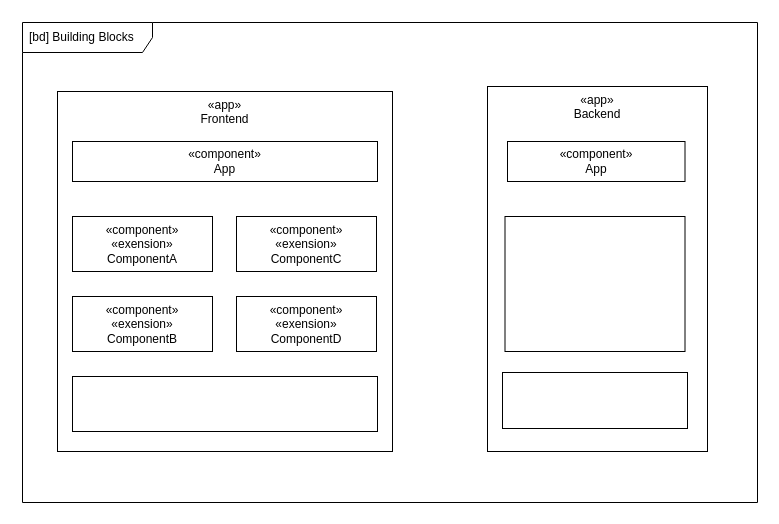
Some shapes in this 779 by 524 pixel diagram are drawn without their labels. The centre of each missing label's shape, as x and y in pixels:
"«component» API" goes at point (594, 284).
"«component» Models" goes at point (595, 400).
"«component» Store" goes at point (225, 404).
